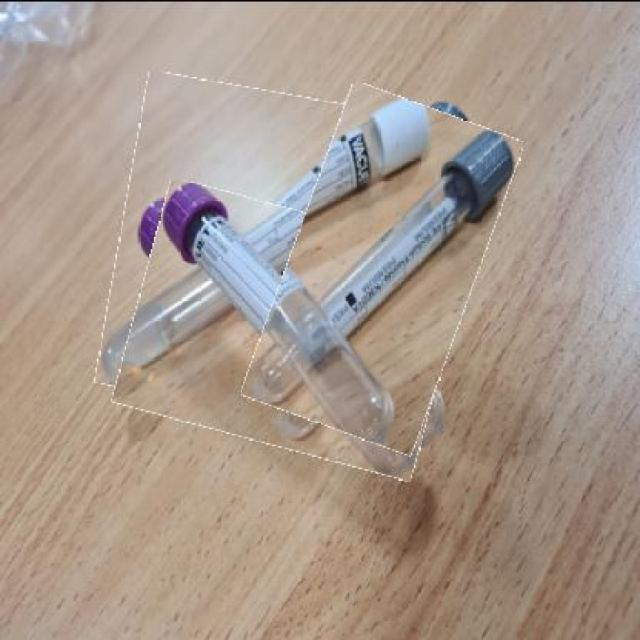Experimental-tube: (108, 78, 398, 417), (123, 195, 457, 462), (266, 90, 500, 444)
